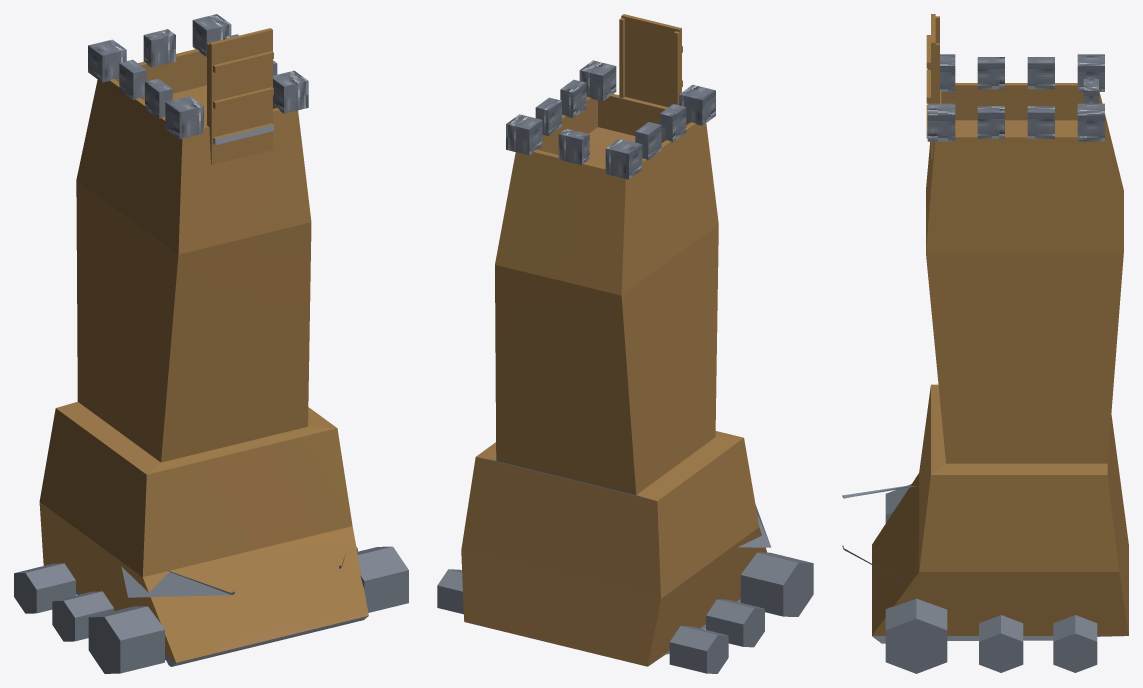
Rendered from ae_siege_tower_open_large_iron_lod2.glb.
3 renders of one model, left to right at view 1: azimuth 30°, elevation 25°; view 2: azimuth 150°, elevation 25°; view 3: azimuth 270°, elevation 25°, orthographic. The views are drawn at different scales.
Parts seen in each view (by area): view 1: siege_tower_open_large, drawbridge; view 2: siege_tower_open_large, drawbridge; view 3: siege_tower_open_large, drawbridge.
Part boxes in pixels (x1=…): siege_tower_open_large: x1=14, y1=14, x2=408, y2=673; drawbridge: x1=207, y1=28, x2=273, y2=164; siege_tower_open_large: x1=437, y1=60, x2=813, y2=673; drawbridge: x1=619, y1=14, x2=682, y2=107; siege_tower_open_large: x1=842, y1=54, x2=1128, y2=673; drawbridge: x1=926, y1=14, x2=939, y2=159.
Size of the model in its own units: 67.27 by 133 by 59.71.
4 materials, 3 textured.
